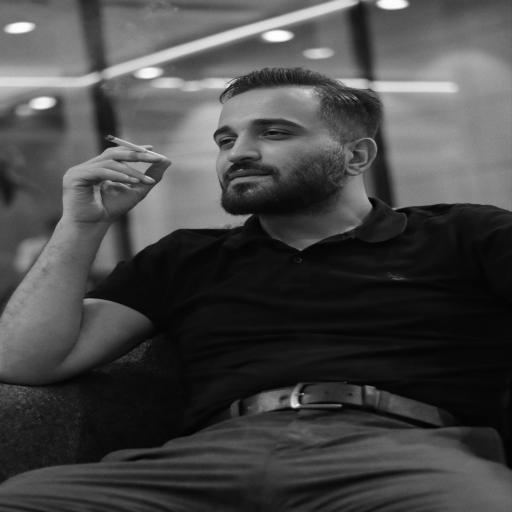terdeteksi pegang rokok: (63, 108, 176, 233)
